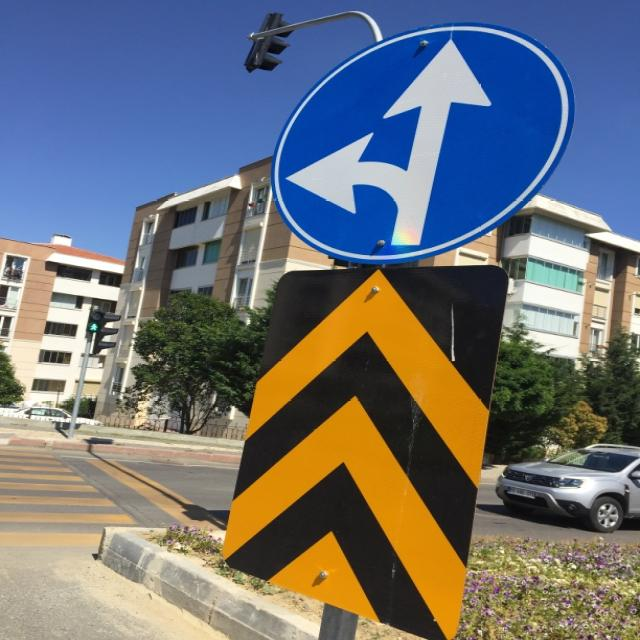ilerisol: (269, 22, 576, 263)
